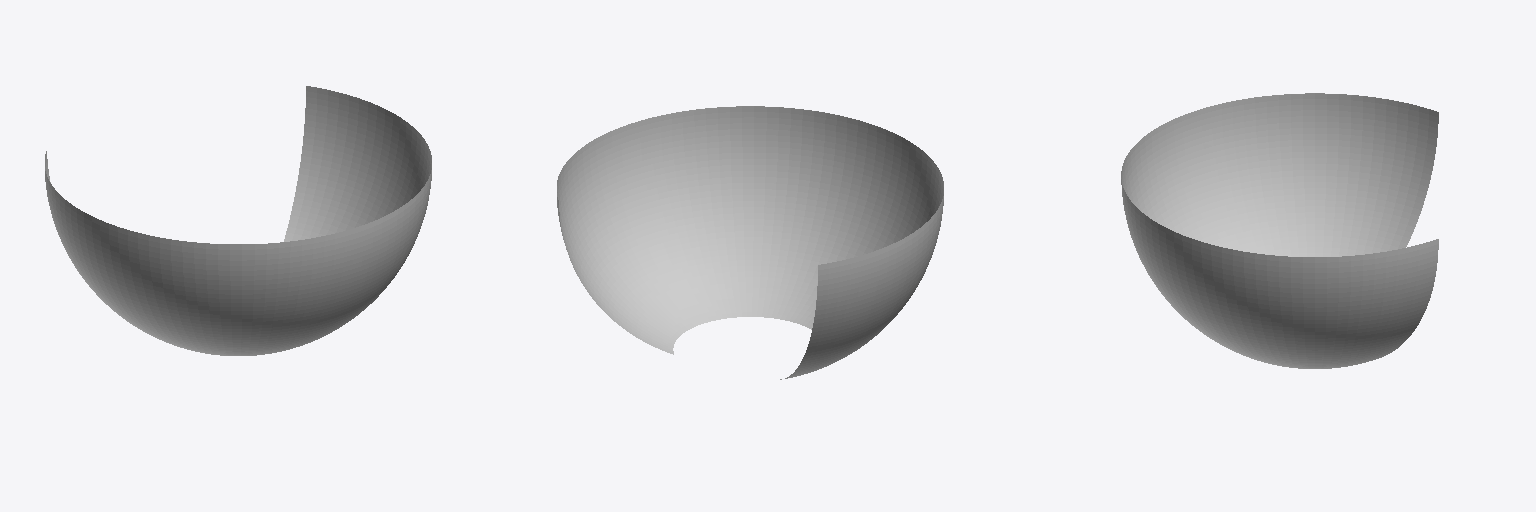
File: SkySphere.obj
The picture shows the model from 3 angles: view 1: azimuth 30°, elevation 25°; view 2: azimuth 150°, elevation 25°; view 3: azimuth 270°, elevation 25°; orthographic projection.
Visible parts, largest first — view 1: SkyBGHalfSphere; view 2: SkyBGHalfSphere; view 3: SkyBGHalfSphere.
Part boxes in pixels (x1,y1,x2,y2): SkyBGHalfSphere: (45,86,431,355); SkyBGHalfSphere: (557,106,943,379); SkyBGHalfSphere: (1121,93,1438,368).
Bounding box in the file's own units: 1800 × 826 × 1474.